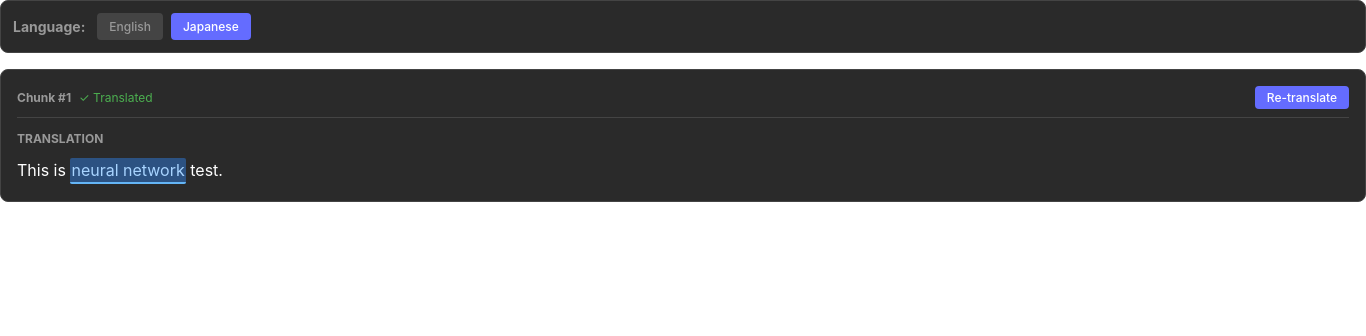
TranslationView hover -> TermTooltip (MSW) › shows tooltip with term details on hover
The width and height of the screenshot is (1366, 336).
Hover to trigger tooltip
Hover over the text "neural network" at (128, 171), box [70, 158, 186, 184]
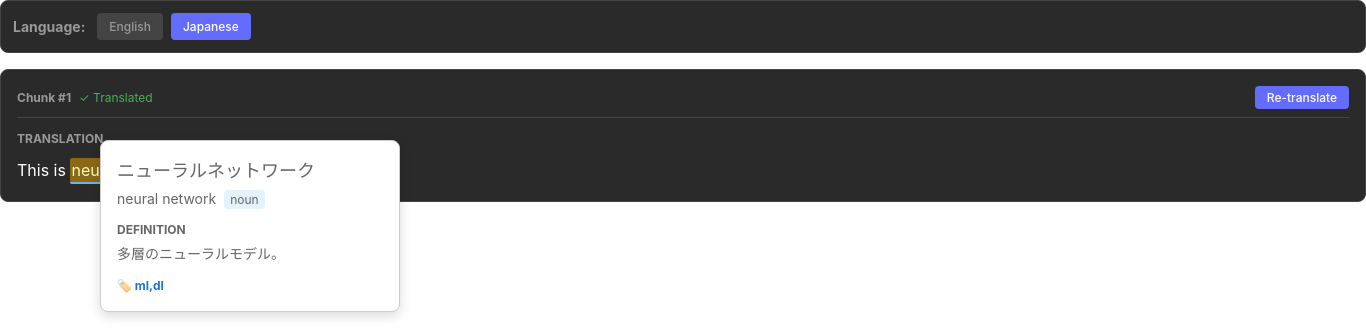
Check: the text "ニューラルネットワーク" is shown, box [117, 160, 315, 181]
